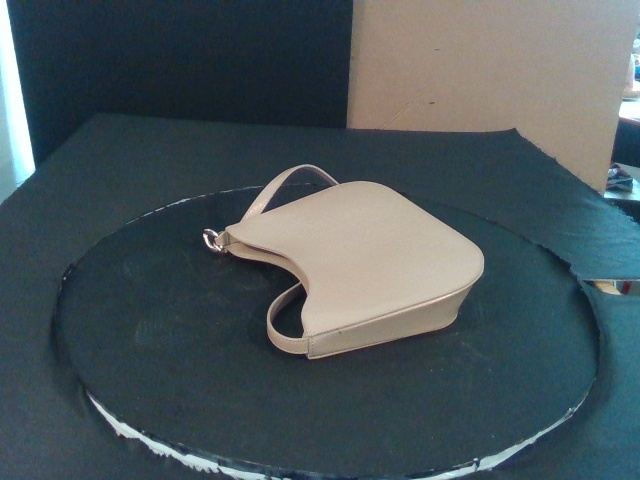bag: (221, 181, 484, 358)
